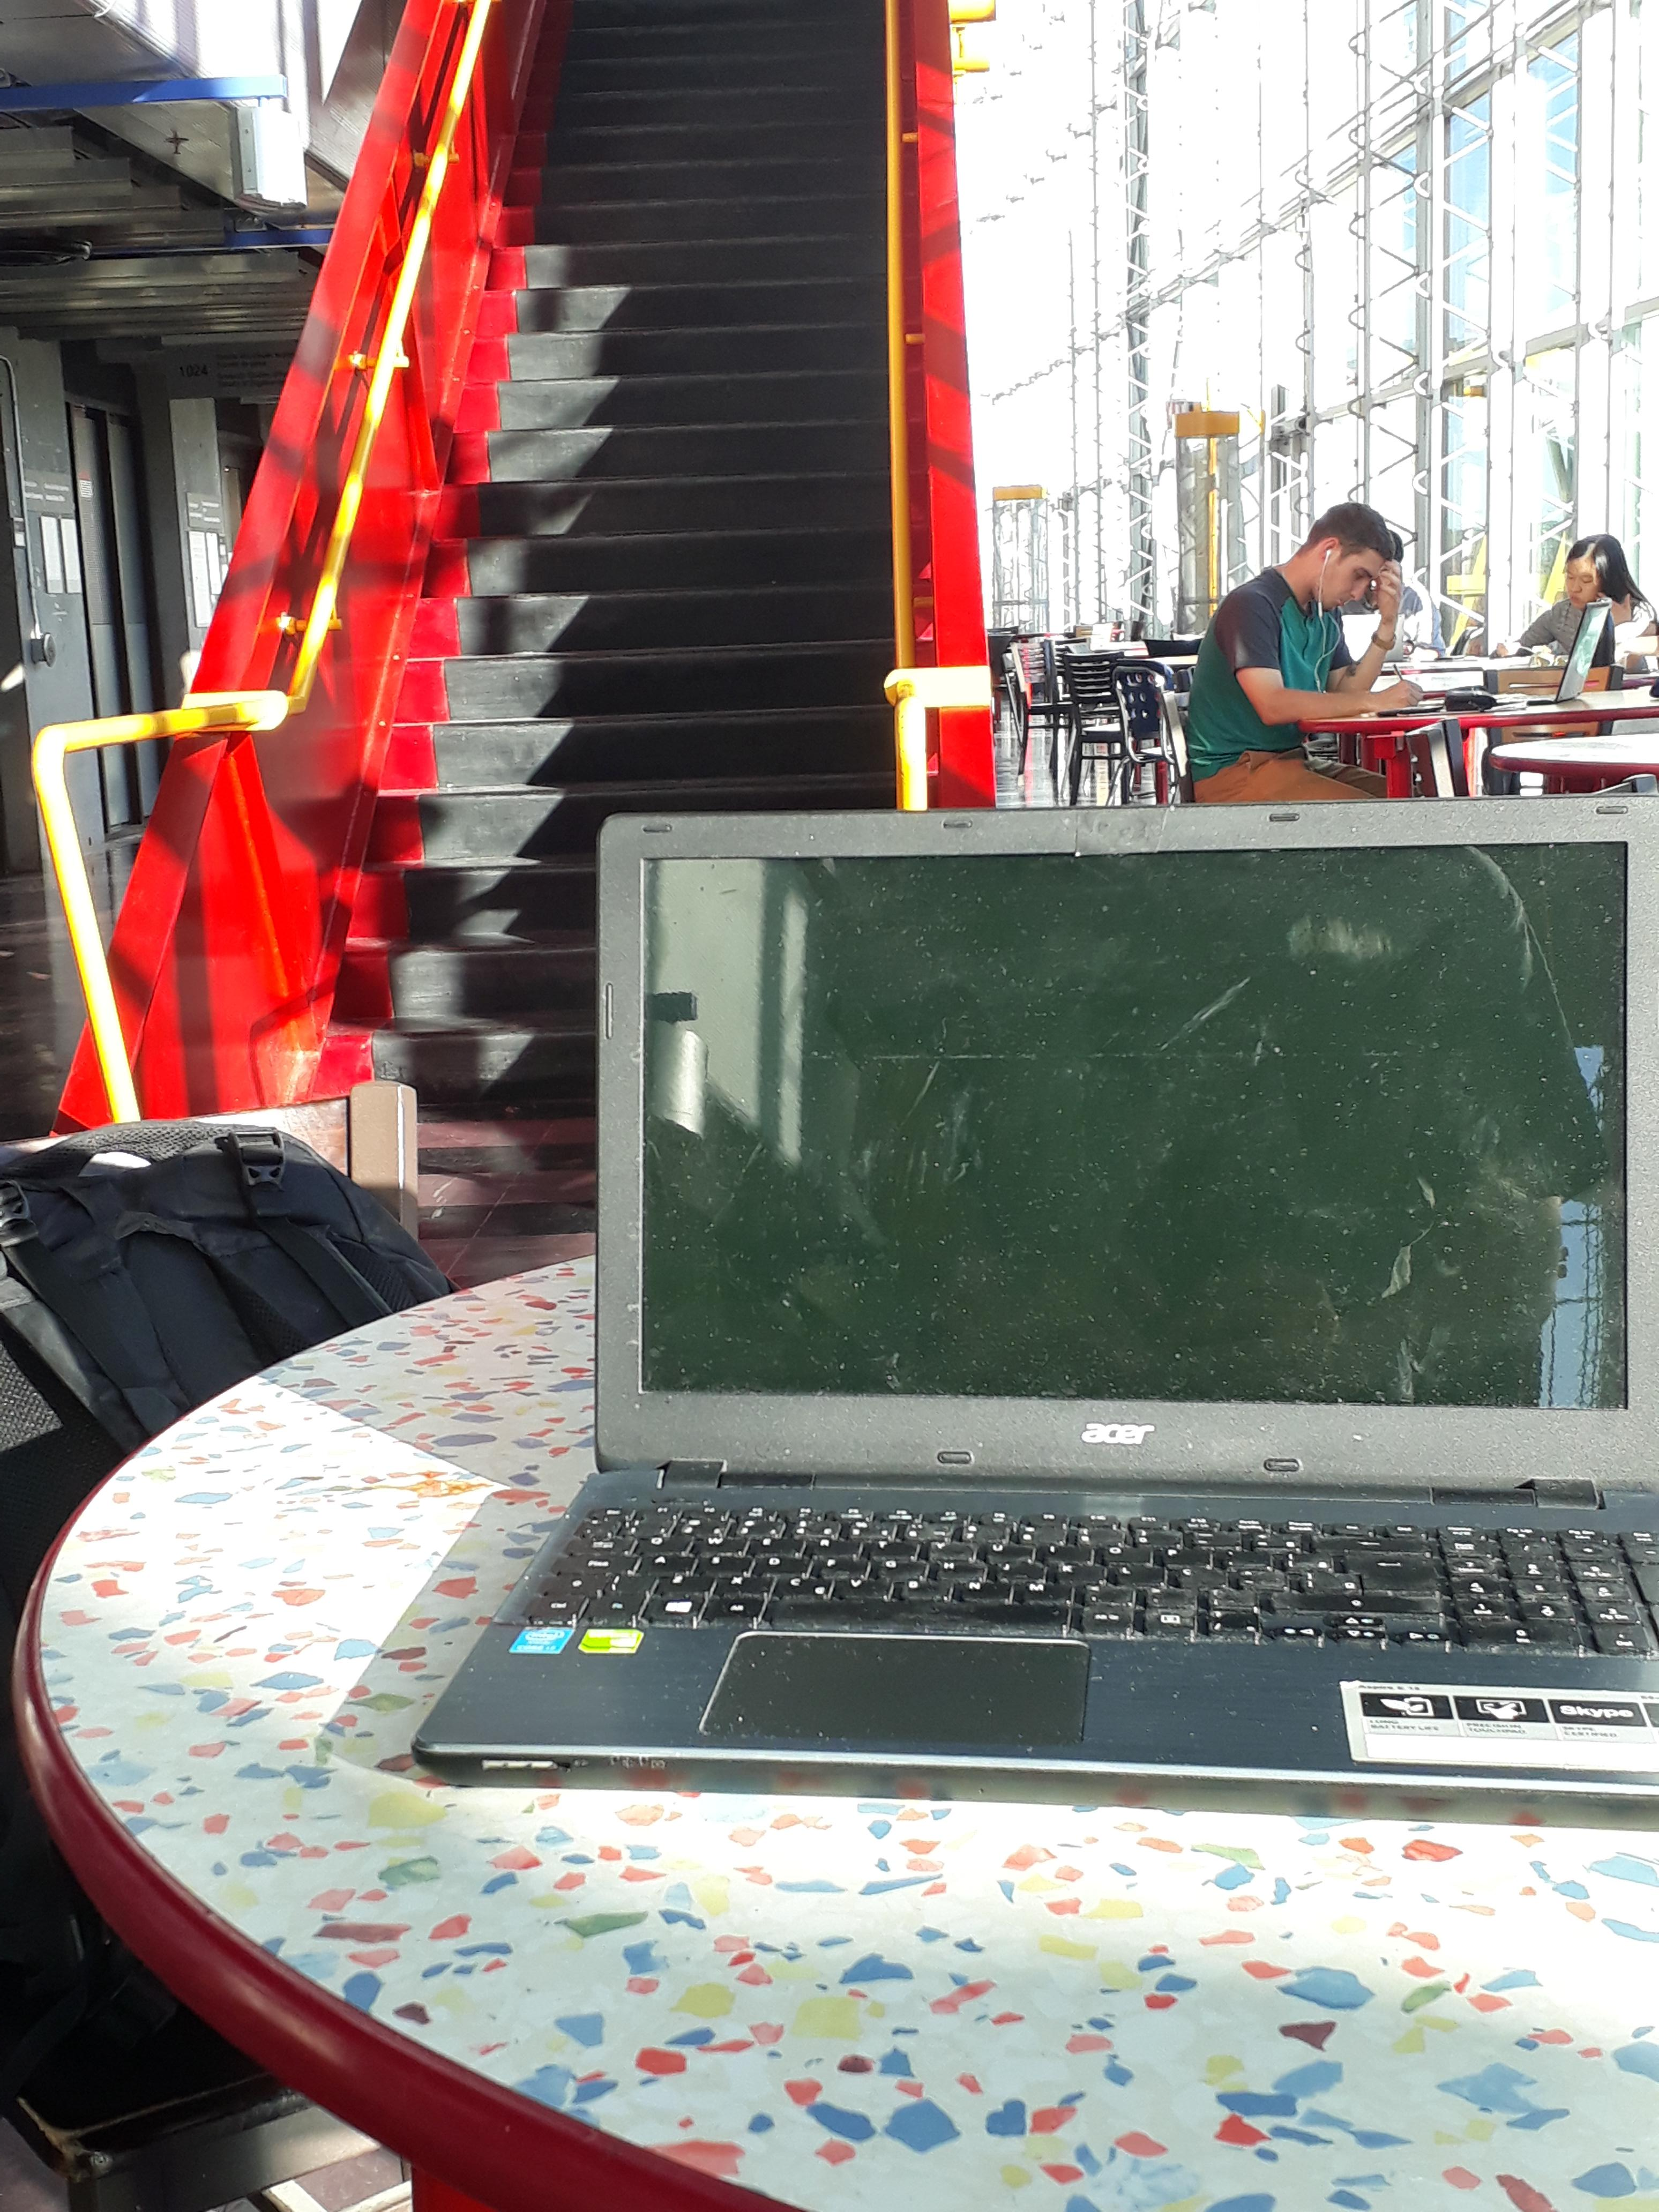person: (1185, 503, 1425, 805), (1492, 534, 1657, 664)
stair: (301, 0, 896, 1096)
tvmonitor: (601, 809, 1658, 1470)
